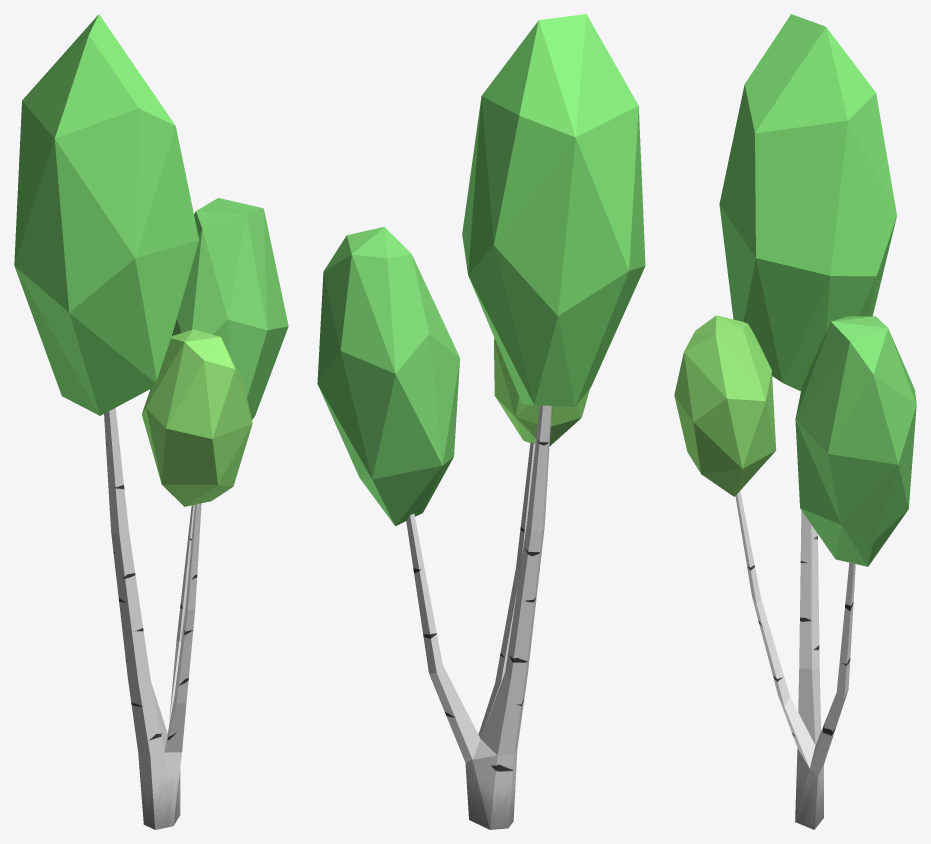
The model's file is birchtree2.fbx.
3 views of the same model, side by side, from view 1: azimuth 30°, elevation 25°; view 2: azimuth 150°, elevation 25°; view 3: azimuth 270°, elevation 25° (orthographic). The views are drawn at different scales.
Parts seen in each view (by area): view 1: Birch_Tree_m_08; view 2: Birch_Tree_m_08; view 3: Birch_Tree_m_08.
Boxes of the visible parts, x1=… form: Birch_Tree_m_08: x1=14, y1=14, x2=288, y2=829; Birch_Tree_m_08: x1=317, y1=14, x2=645, y2=829; Birch_Tree_m_08: x1=674, y1=14, x2=916, y2=829.
Bounding box in the file's own units: 216 × 270 × 756.
Materials: 1 (1 with a texture image).
